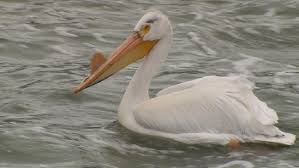pelican: (72, 13, 296, 147)
